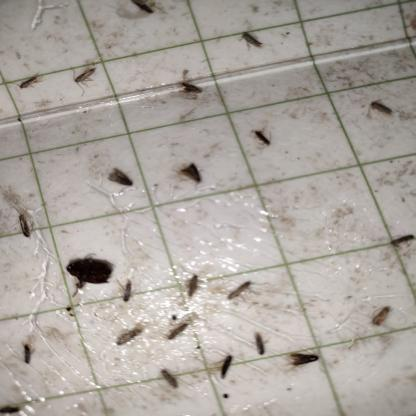prays_oleae: (224, 269, 260, 309), (71, 55, 102, 101), (113, 318, 146, 360), (179, 147, 205, 199), (107, 154, 136, 199), (174, 74, 212, 108), (283, 345, 326, 372), (369, 88, 396, 130), (247, 119, 277, 156), (369, 300, 397, 339), (158, 360, 182, 401), (17, 67, 42, 104), (240, 21, 265, 57), (217, 346, 235, 393), (184, 265, 205, 305), (392, 226, 415, 261), (253, 323, 267, 370), (18, 209, 34, 250), (18, 337, 36, 372), (167, 318, 192, 343), (129, 0, 155, 21), (119, 277, 136, 309)
